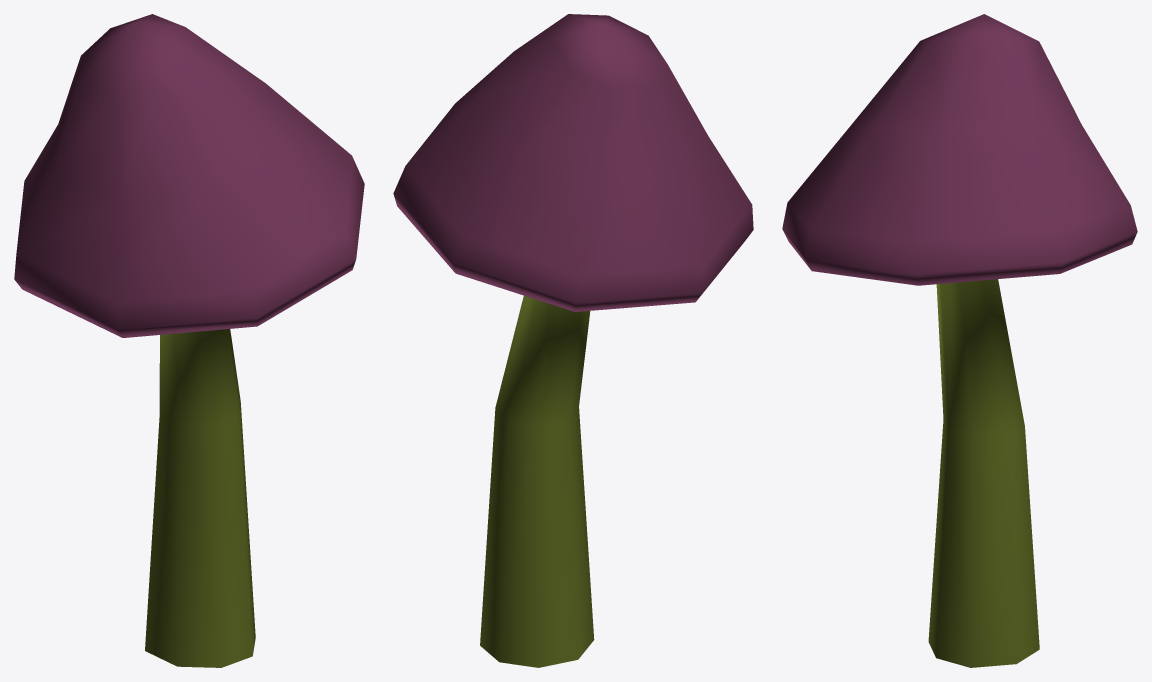
The model's file is SM_Mushroom_01.fbx.
3 views of the same model, side by side, from view 1: azimuth 30°, elevation 25°; view 2: azimuth 150°, elevation 25°; view 3: azimuth 270°, elevation 25° (orthographic). The views are drawn at different scales.
Visible parts, largest first — view 1: mushroom; view 2: mushroom; view 3: mushroom.
Boxes of the visible parts, x1,y1,x2,y2 form: mushroom: (14,14,364,667); mushroom: (393,14,753,667); mushroom: (782,14,1137,667).
Bounding box in the file's own units: 22.84 × 24.44 × 45.65.
